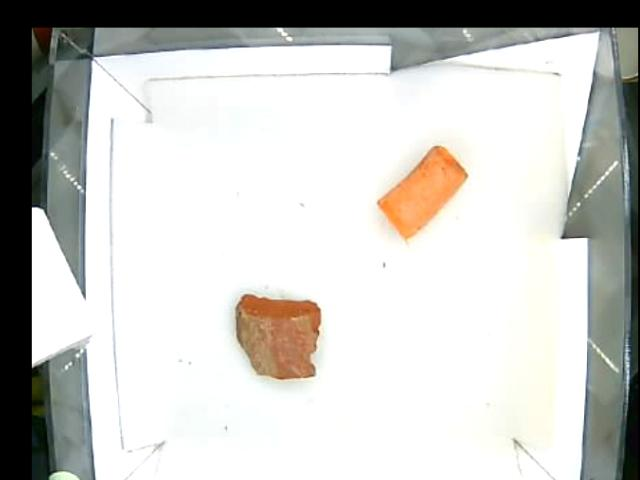Brisk: (232, 292, 321, 379)
Carrot: (375, 144, 467, 241)
